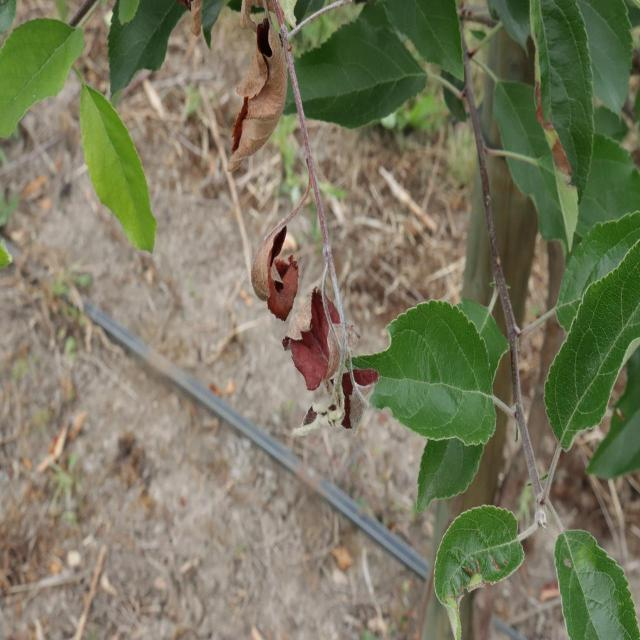-FireBlight-: (222, 0, 372, 424)
